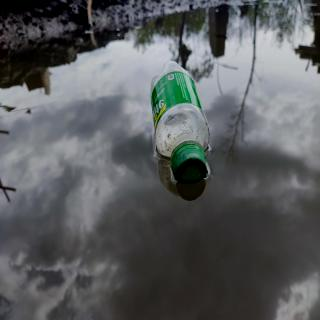bottle: (148, 59, 211, 186)
